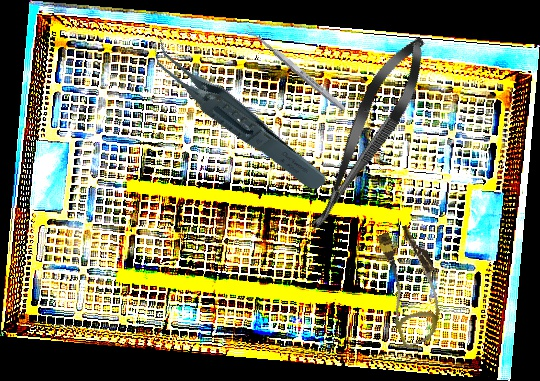Cannula: (363, 221, 458, 349)
Micro Scissor: (294, 28, 440, 242)
Surgical Spoon: (243, 23, 347, 113)
Tissue Forceps: (145, 5, 330, 221)
